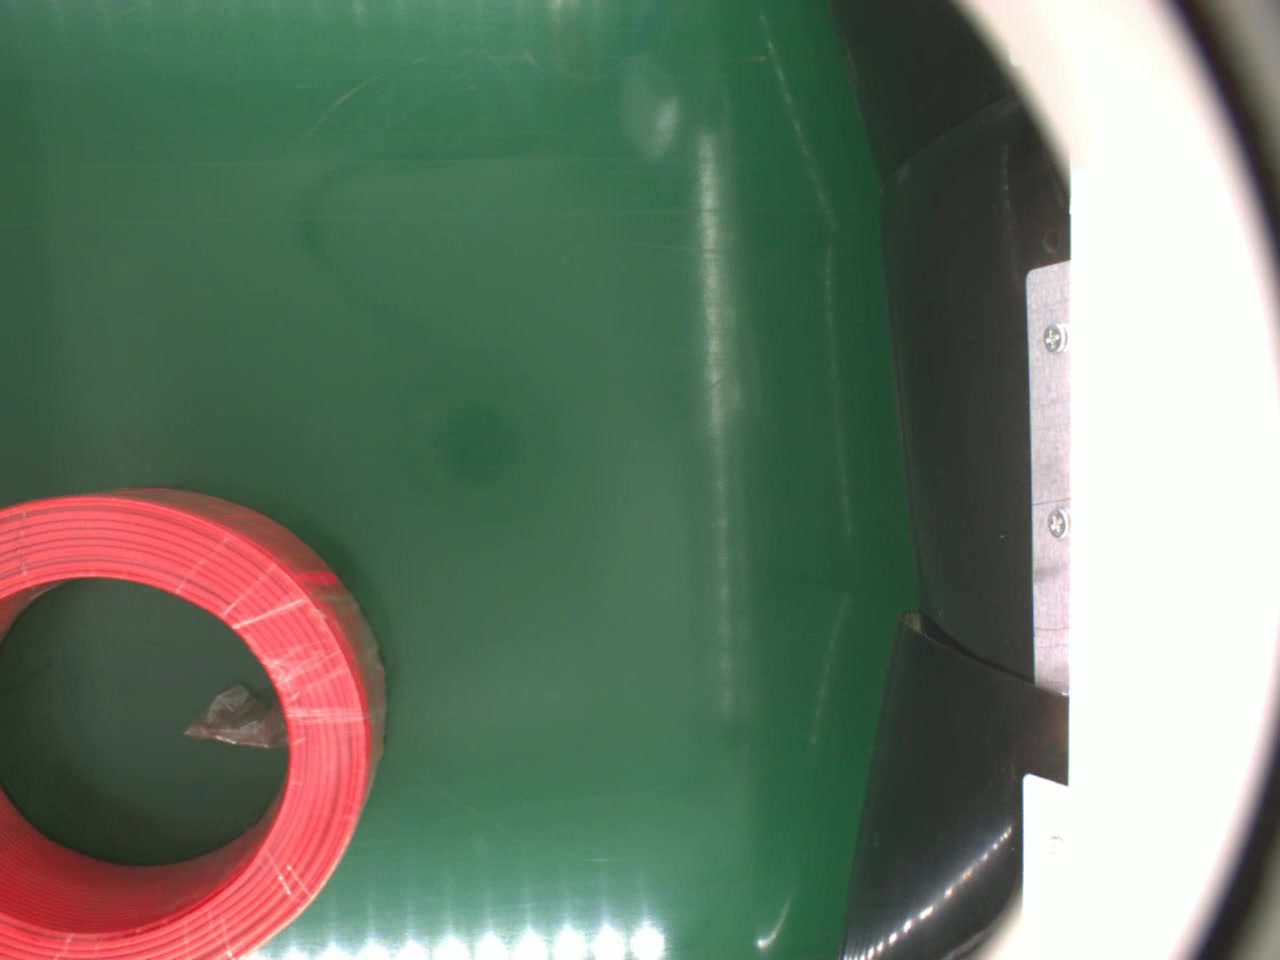red: (0, 491, 387, 960)
